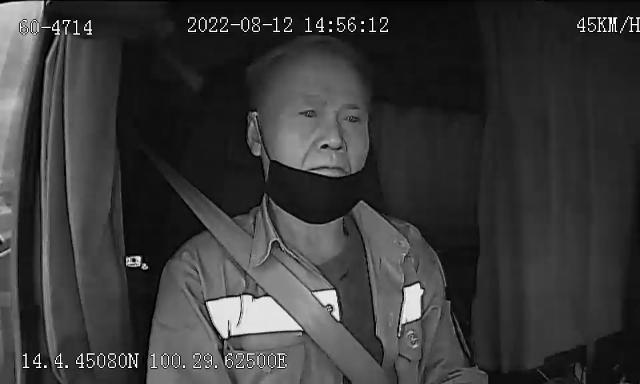SafeDriving: (335, 104, 369, 130), (291, 102, 325, 126)
Seatbelt: (137, 126, 403, 384)
